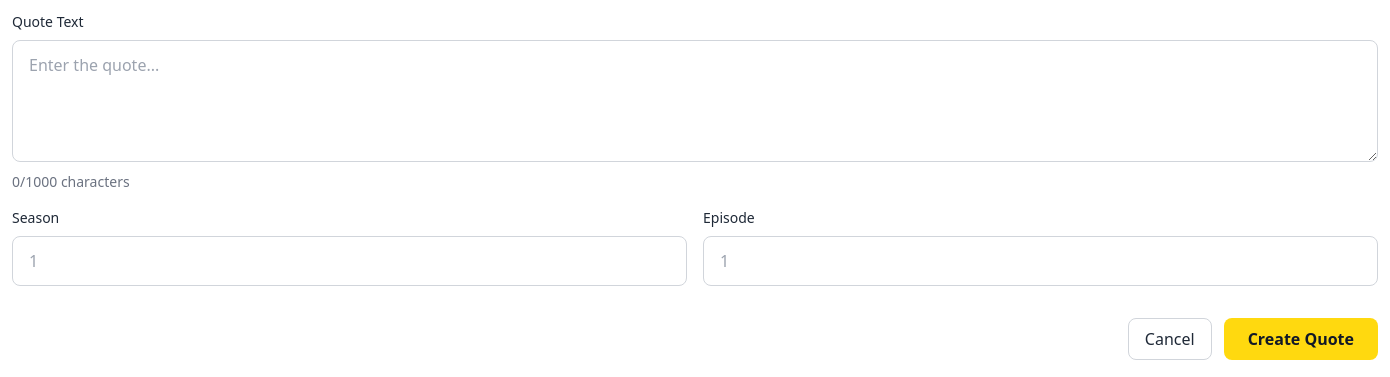
Test: QuoteForm › shows character count
The width and height of the screenshot is (1390, 377).
Check: the text "0/1000 characters" is shown, box x1=12 y1=172 x2=130 y2=191
Type "Hello" into the text box labelled "Quote Text" at (695, 101), box x1=12 y1=40 x2=1378 y2=162
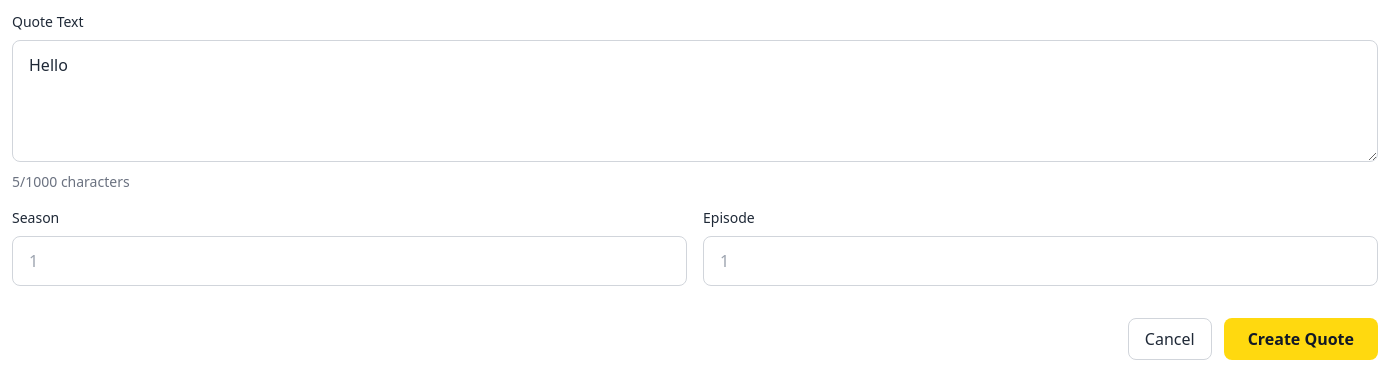
Check: the text "5/1000 characters" is shown, box x1=12 y1=172 x2=130 y2=191
